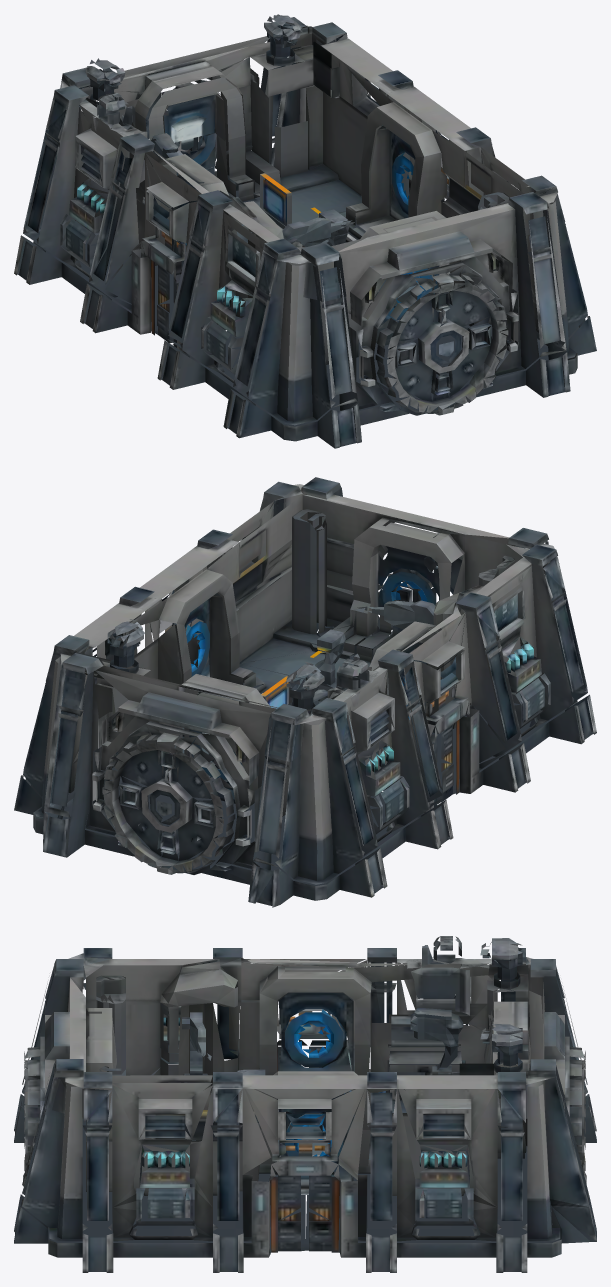
Rendered from arsenal_LOD1.glb.
3 views of the same model, one above another, from view 1: azimuth 30°, elevation 25°; view 2: azimuth 150°, elevation 25°; view 3: azimuth 270°, elevation 25° (orthographic).
Parts seen in each view (by area): view 1: arsenal_LOD1; view 2: arsenal_LOD1; view 3: arsenal_LOD1.
Part boxes in pixels (left/top/right/bottom): arsenal_LOD1: left=14, top=14, right=596, bottom=448; arsenal_LOD1: left=14, top=477, right=596, bottom=907; arsenal_LOD1: left=14, top=936, right=596, bottom=1272.
Bounding box in the file's own units: 0.6971 × 0.373 × 0.9958.
Materials: 1 (1 with a texture image).
